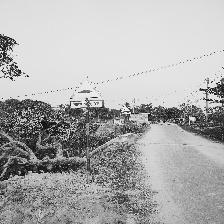Speed-breaker: (67, 75, 106, 113)
